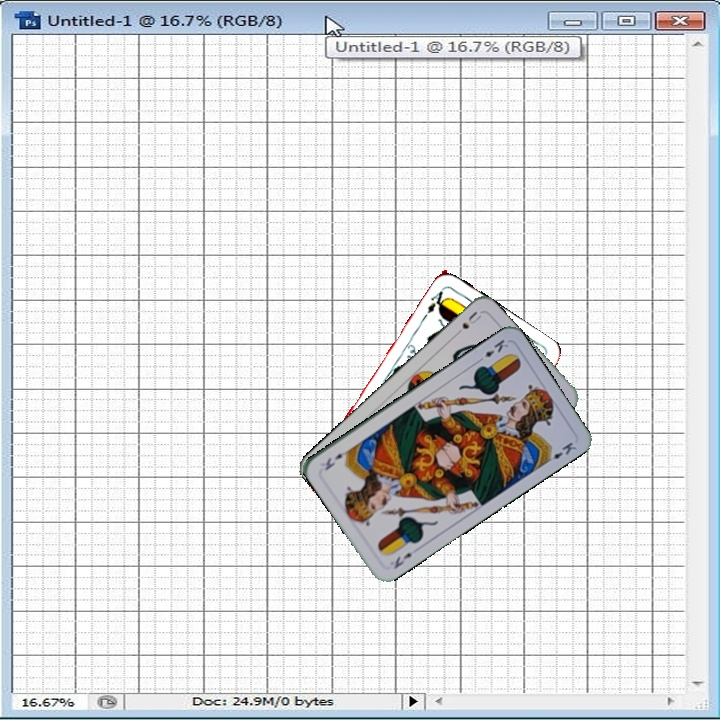EA: (423, 284, 450, 316)
EK: (474, 335, 511, 365), (390, 549, 415, 572)
SU: (450, 307, 484, 340)
